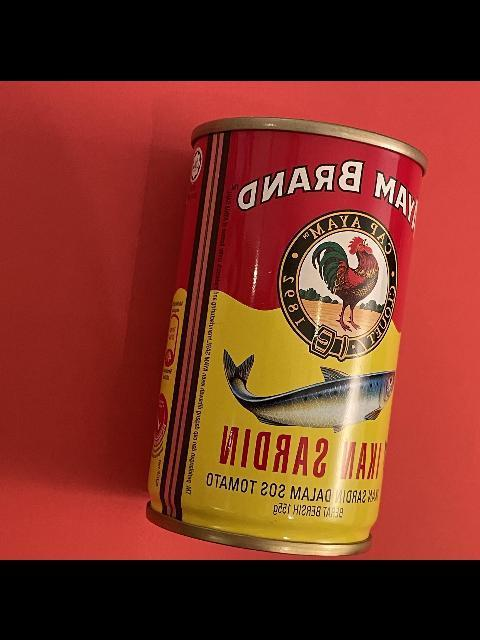foodcan: (144, 114, 426, 556)
